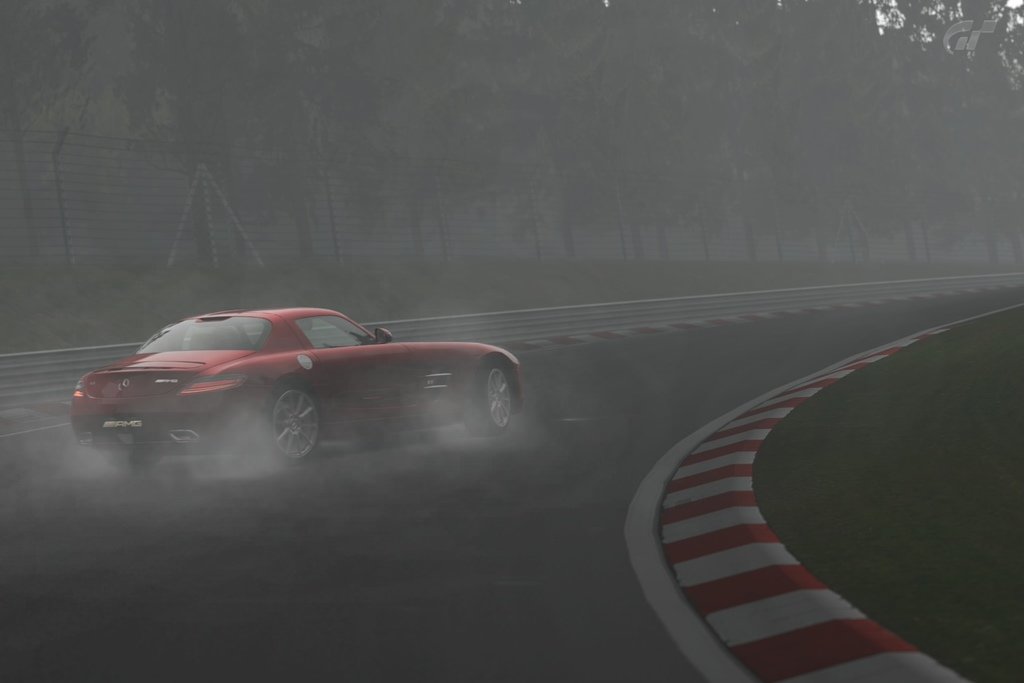Car: (71, 304, 528, 469)
